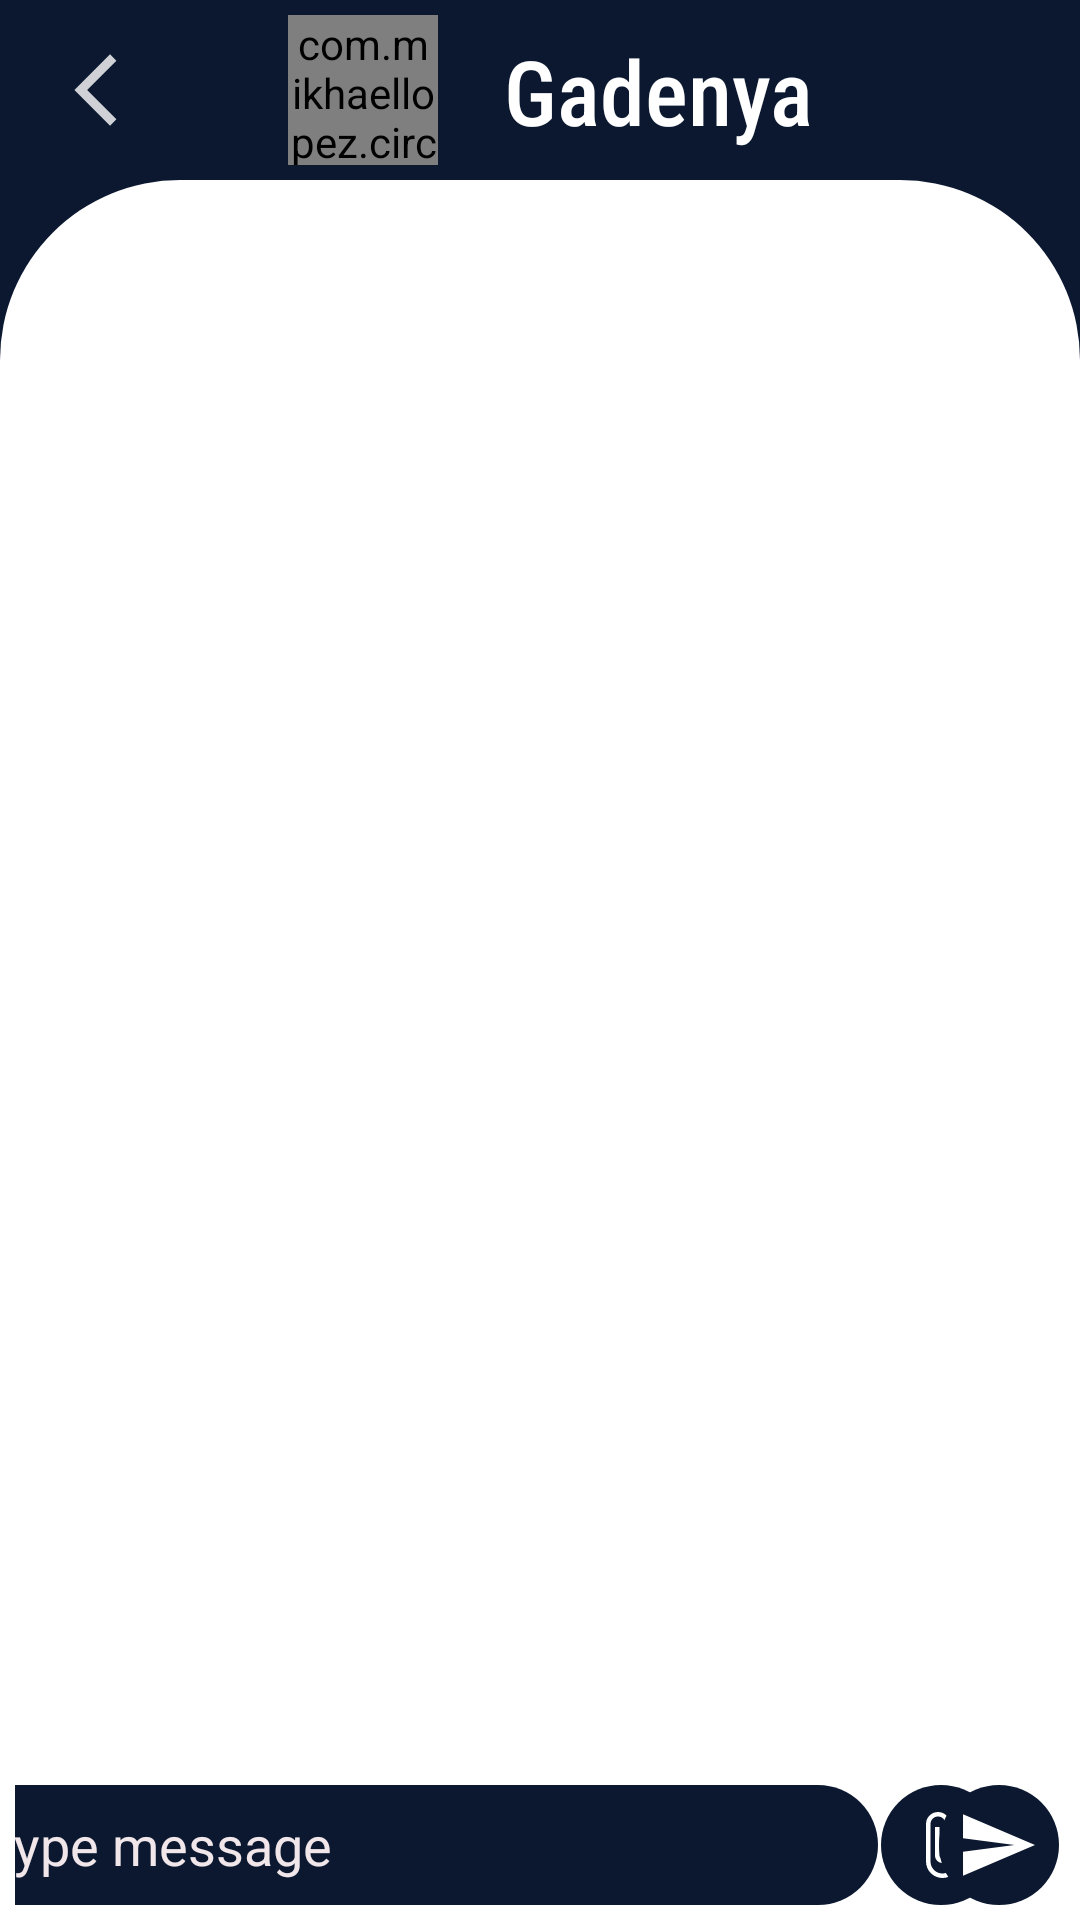

Locate icon controls on the screen. Image size 1080x1920, boxes as (x1, y1, x2, y2).
arrow: (74, 54, 117, 126)
